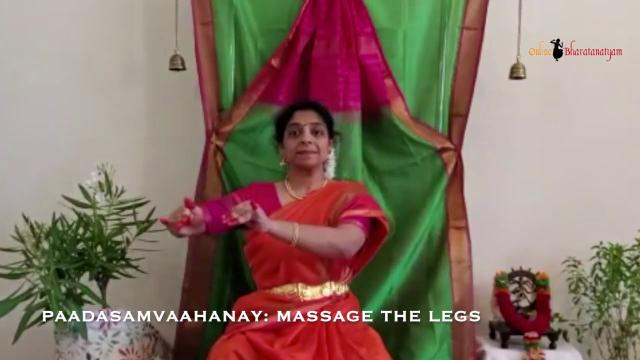mrighasheesh: (147, 193, 211, 249), (220, 186, 276, 244)
